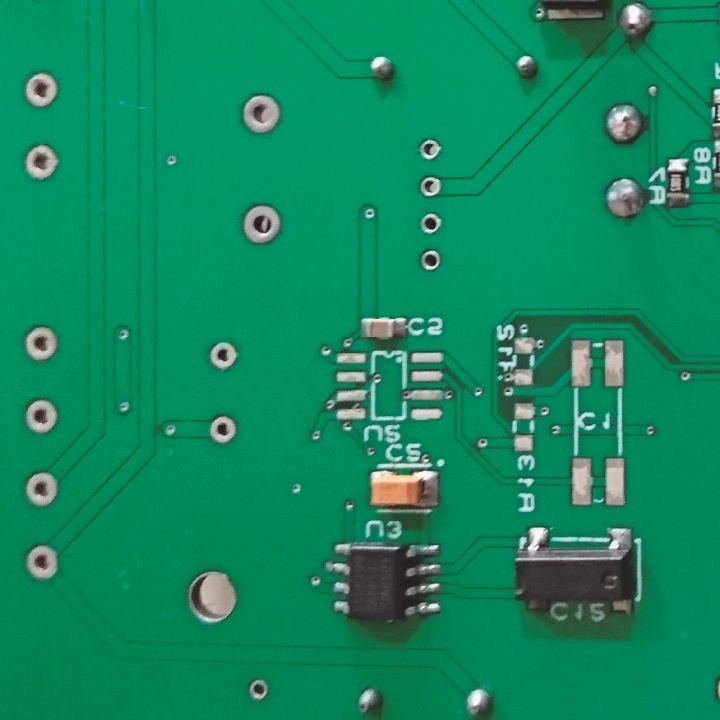F: (239, 92, 285, 136), (240, 202, 284, 247), (19, 394, 61, 438), (21, 141, 59, 187), (21, 70, 61, 112), (21, 323, 61, 364), (21, 472, 61, 509), (24, 544, 62, 582), (204, 338, 240, 373), (206, 412, 239, 446), (414, 135, 446, 163), (418, 206, 445, 238), (417, 245, 444, 274), (246, 675, 270, 702), (417, 174, 442, 199)
